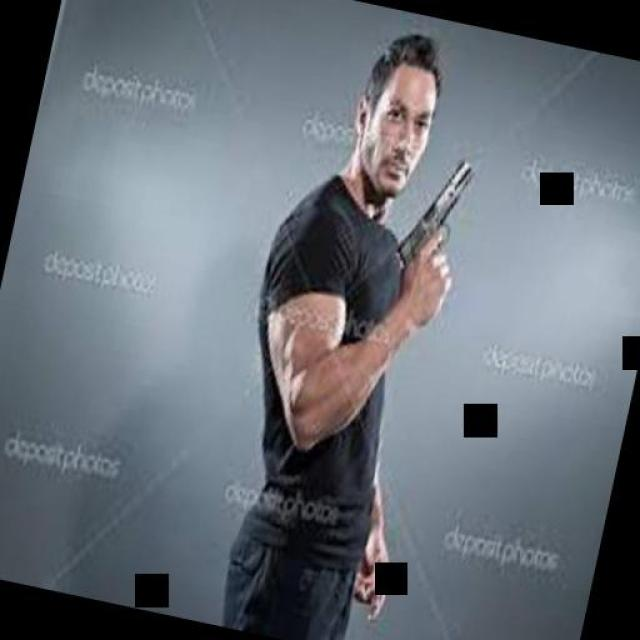gun: (389, 148, 475, 276)
